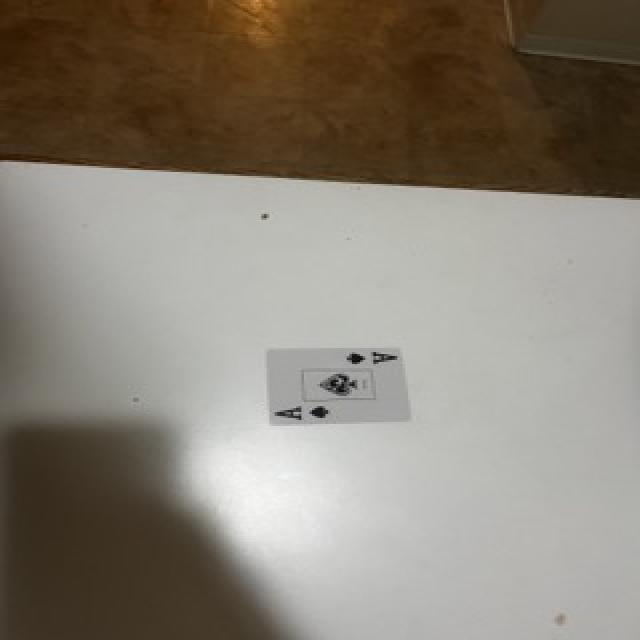Ace of spades: (268, 349, 410, 425)
